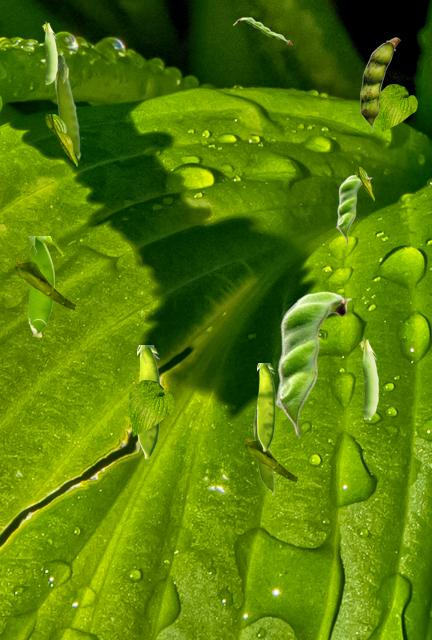pea: (275, 291, 351, 436), (360, 37, 399, 131), (54, 53, 80, 159), (28, 236, 53, 336), (137, 345, 159, 458), (336, 175, 371, 242), (253, 407, 274, 494), (233, 17, 291, 43), (257, 363, 274, 450), (359, 337, 377, 418), (42, 21, 56, 83)
